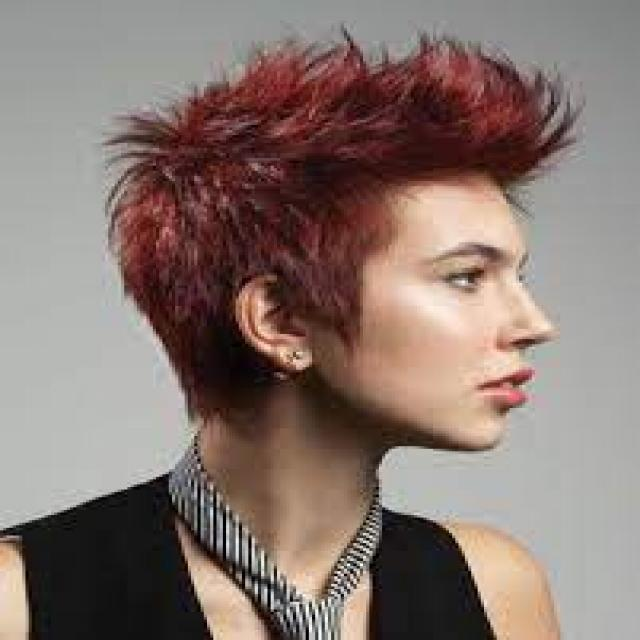Healthy: (204, 389, 375, 589)
